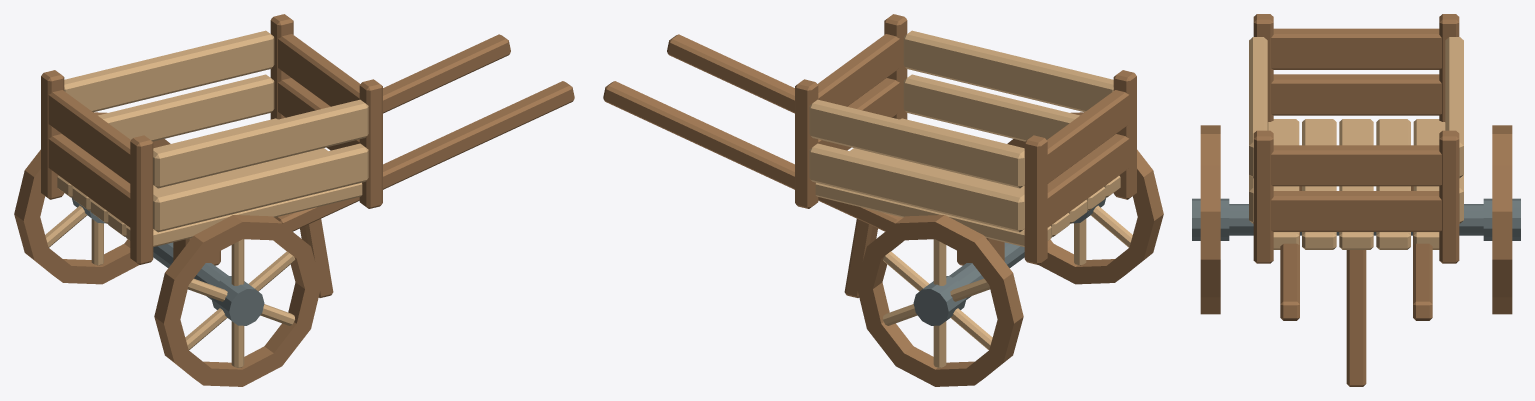
3 views of the same model, side by side, from view 1: azimuth 30°, elevation 25°; view 2: azimuth 150°, elevation 25°; view 3: azimuth 270°, elevation 25° (orthographic). The views are drawn at different scales.
Visible parts, largest first — view 1: village-handcart-01; view 2: village-handcart-01; view 3: village-handcart-01.
Boxes of the visible parts, box(x1,y1,x2,y2) form: village-handcart-01: box(14, 14, 574, 386); village-handcart-01: box(603, 14, 1163, 386); village-handcart-01: box(1192, 14, 1520, 386).
Size of the model in its own units: 2.04 by 1.05 by 1.24.
